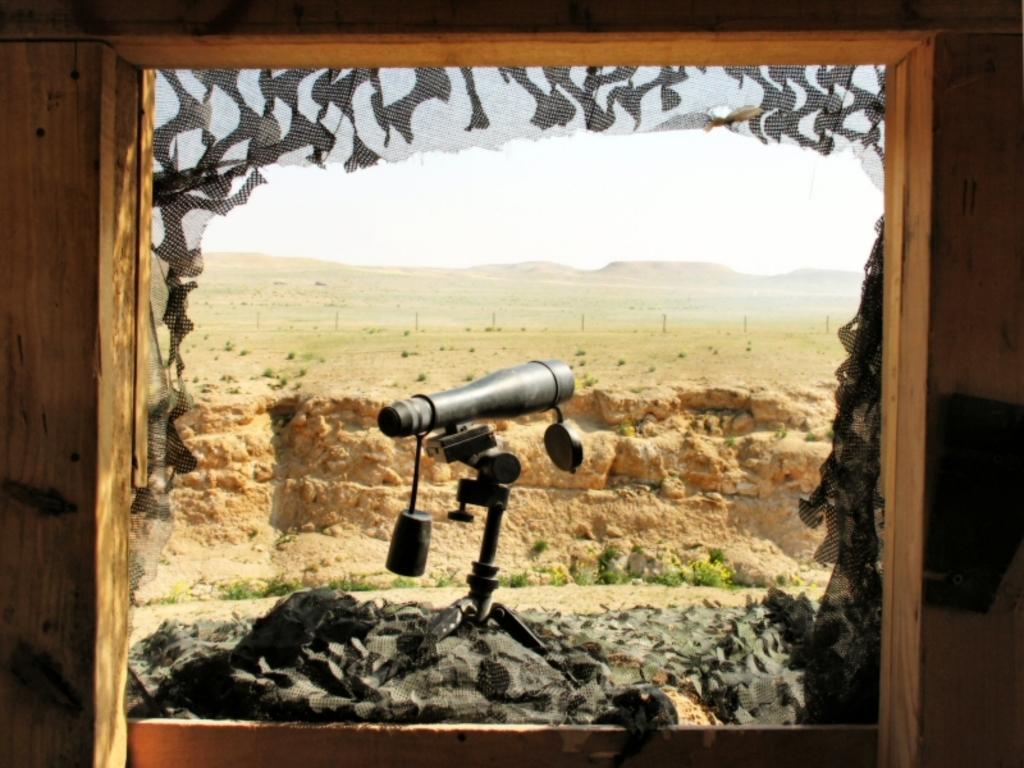Rifle: (367, 320, 608, 640)
